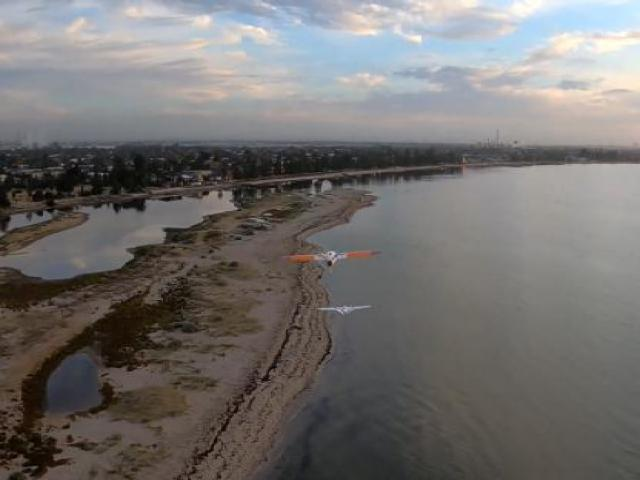uav: (282, 248, 382, 268), (316, 302, 378, 320)
